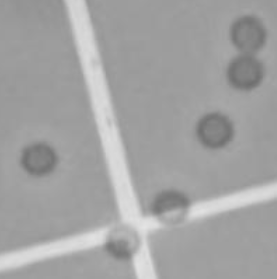cell: (223, 11, 272, 59), (147, 185, 194, 229), (221, 50, 268, 94), (192, 107, 236, 151), (15, 138, 61, 179), (103, 219, 144, 262)
